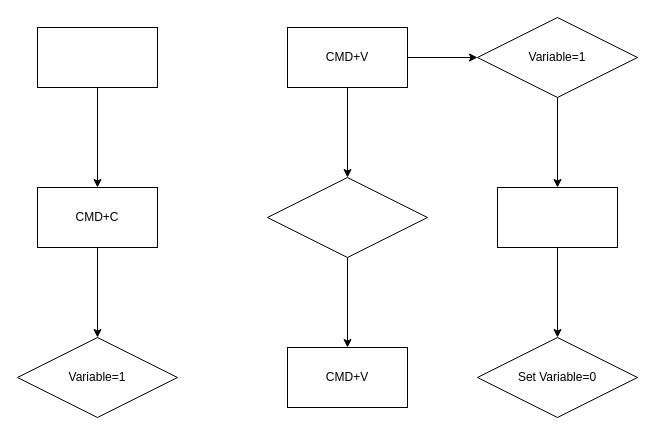
Image size: 655x435. Some labels were removed from this diagram. The box of each missing label's shape, as (x1, y1, x2, y2) in pixels:
CMD+OPT+V: (496, 186, 618, 248)
CMD+X: (36, 26, 158, 88)
Variable=0: (266, 176, 428, 258)
